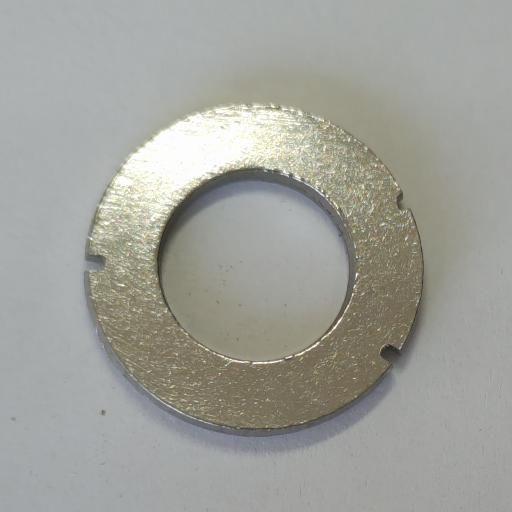burr: (379, 344, 401, 366), (84, 252, 108, 272), (396, 192, 412, 211)
